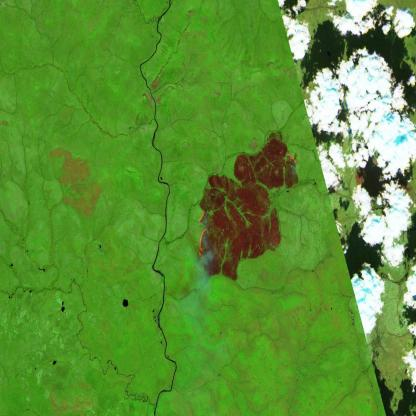fire: (195, 151, 299, 264)
